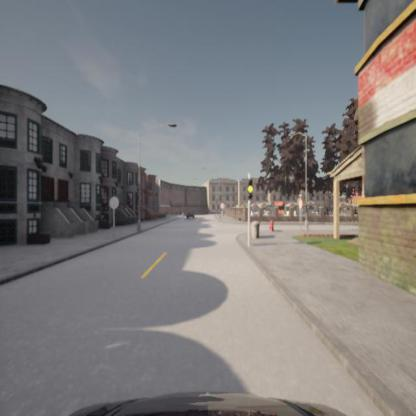traffic_light_orange: (247, 179, 253, 200)
